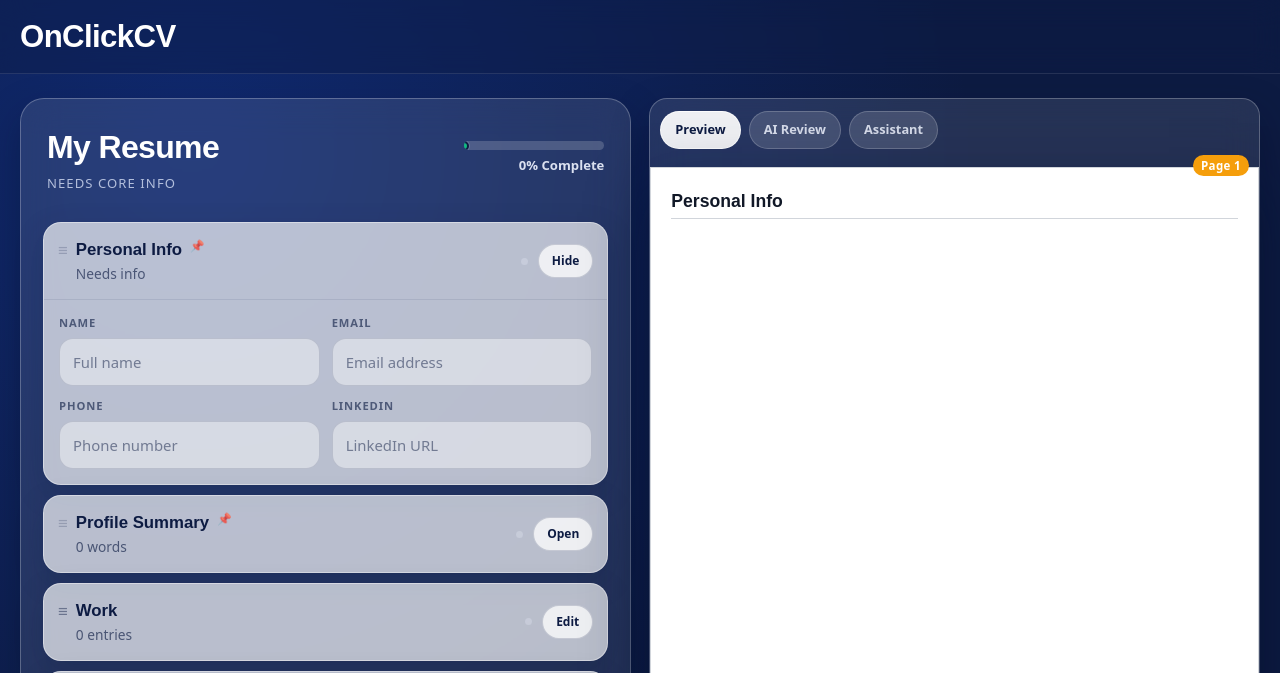
Test: App › accumulates streamed AI suggestions and marks panel ready
This screenshot has width=1280, height=673.
Click the button "AI Review" at (795, 130), box [749, 111, 841, 149]
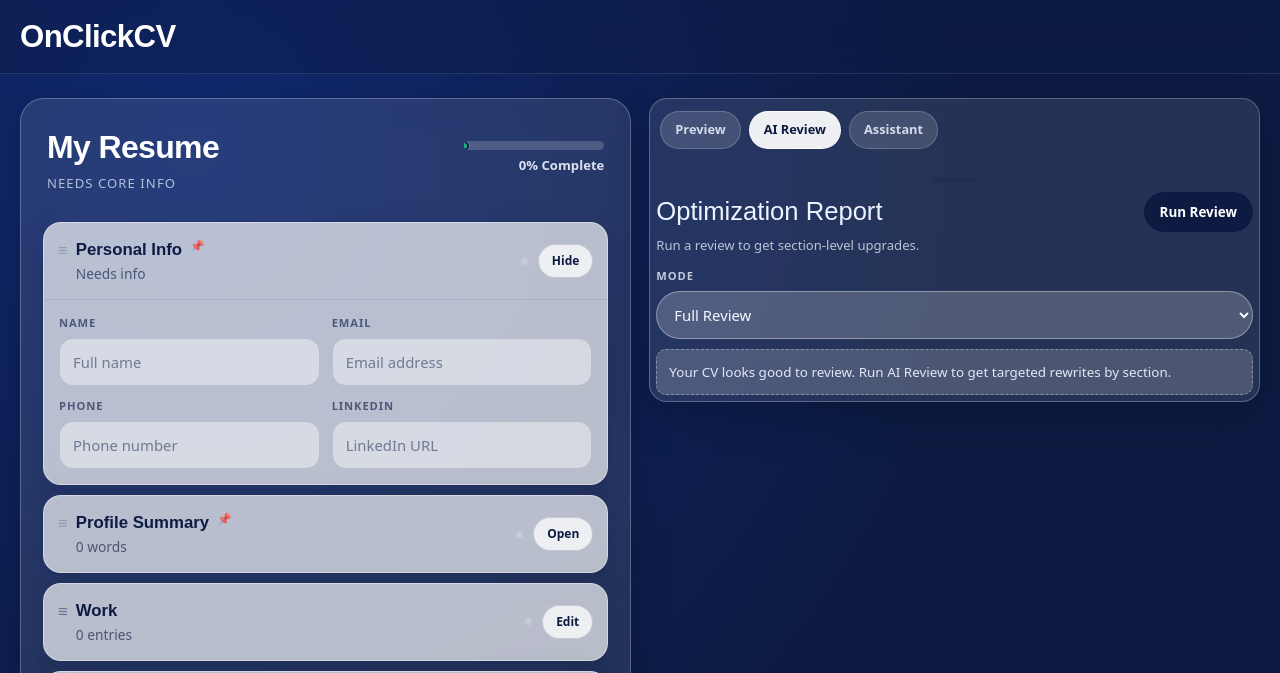
Click the button "Run Review" at (1198, 212), box [1144, 192, 1253, 232]
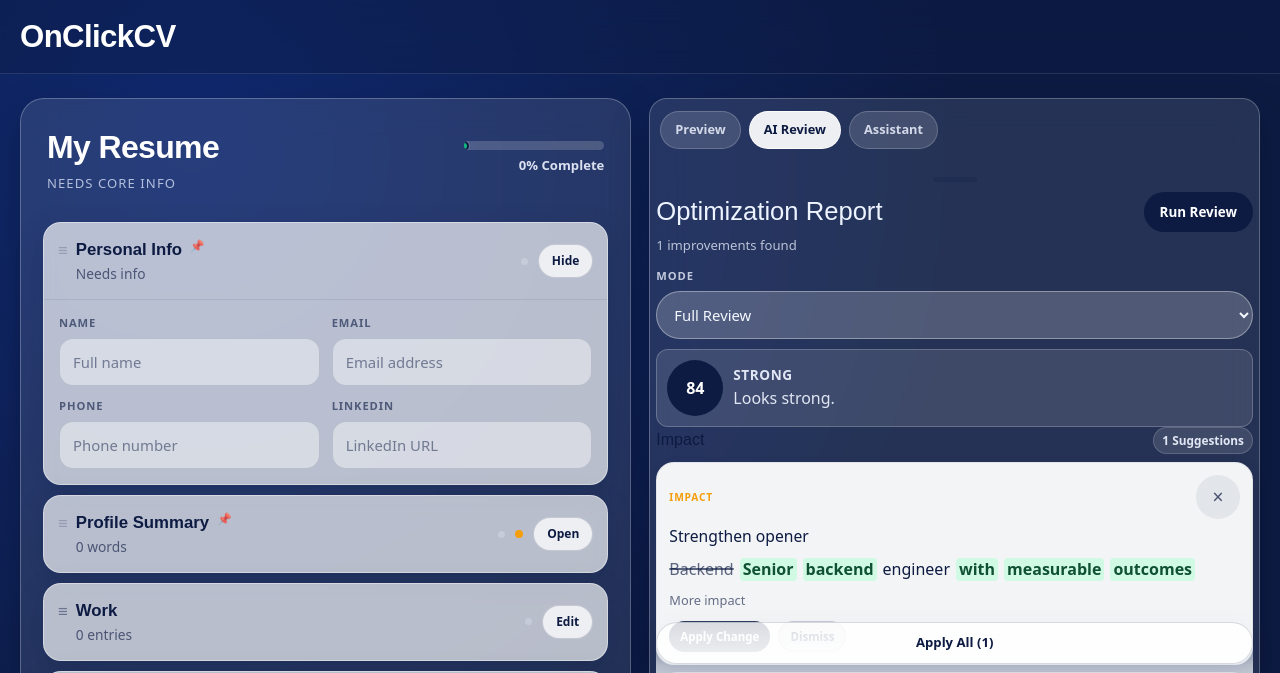
expect the text "Strengthen opener" is shown: met, box [669, 525, 809, 547]
expect the text "Apply Change" is shown: met, box [669, 621, 770, 652]
